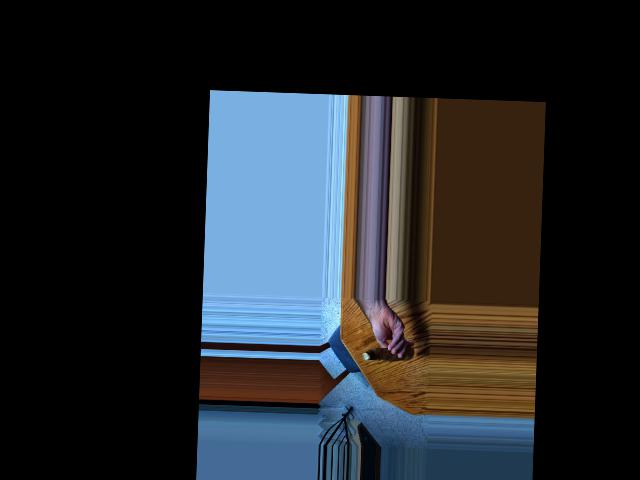sweet_potato: (361, 348, 405, 360)
